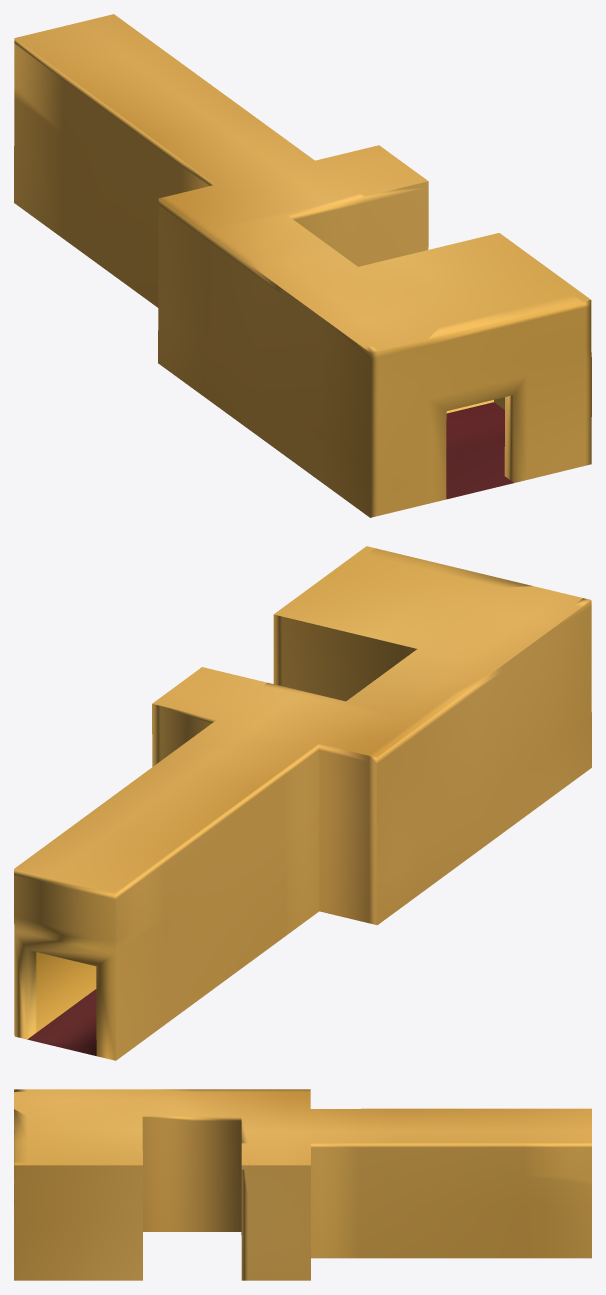
File: hab4.fbx
3 views of the same model, one above another, from view 1: azimuth 30°, elevation 25°; view 2: azimuth 150°, elevation 25°; view 3: azimuth 270°, elevation 25° (orthographic). The views are drawn at different scales.
Parts seen in each view (by area): view 1: pPlane6; view 2: pPlane6; view 3: pPlane6.
Part boxes in pixels (x1,y1,x2,y2): pPlane6: (14, 14, 591, 517); pPlane6: (14, 546, 591, 1060); pPlane6: (14, 1089, 591, 1280).
Size of the model in its own units: 29.95 by 21.28 by 96.12.
Materials: 3 (3 with a texture image).
